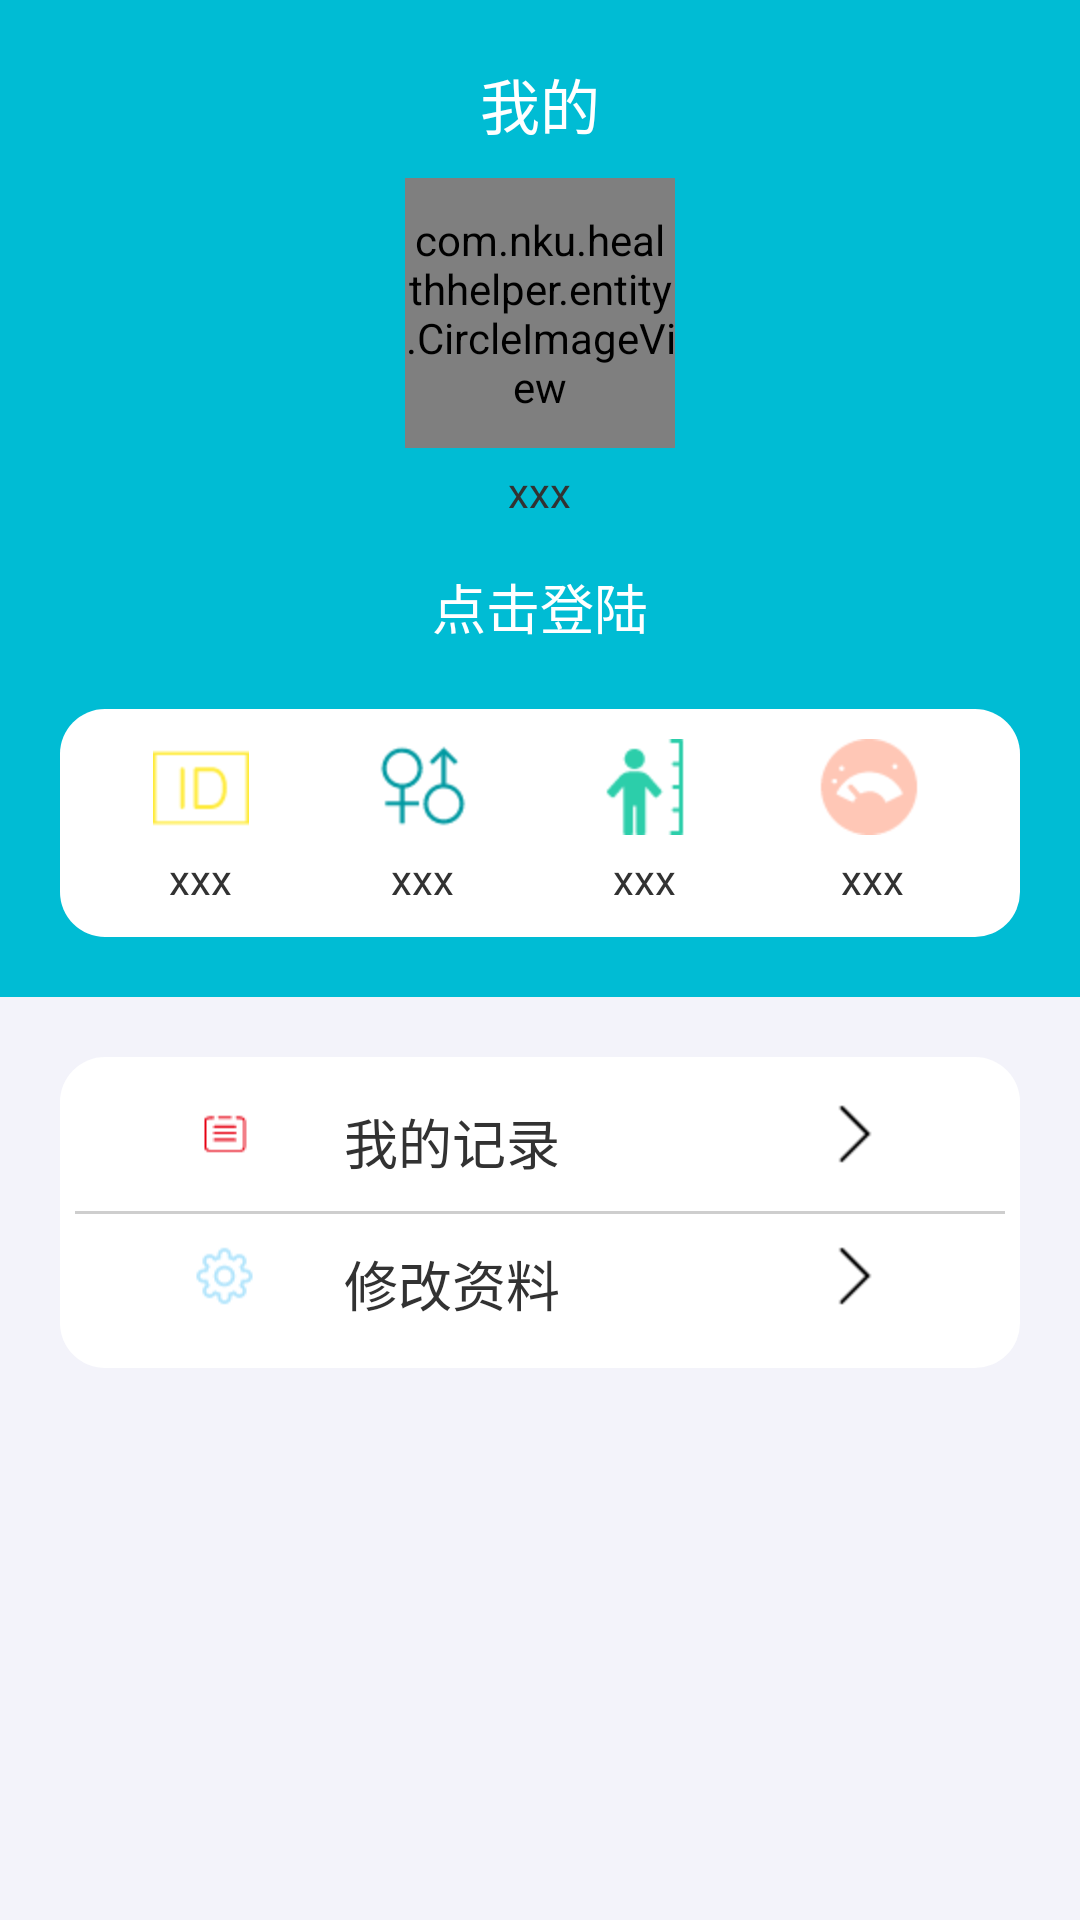

Locate icon controls on the screen. Image size 1080x1920, boxes as detection(x1, y1, x2, y2).
arrow: detection(839, 1105, 871, 1163), detection(839, 1247, 871, 1305)
gender: detection(380, 747, 466, 826)
high: detection(606, 739, 684, 835)
record: detection(204, 1115, 247, 1153)
setting: detection(196, 1248, 253, 1304)
weight: detection(821, 739, 917, 835)
